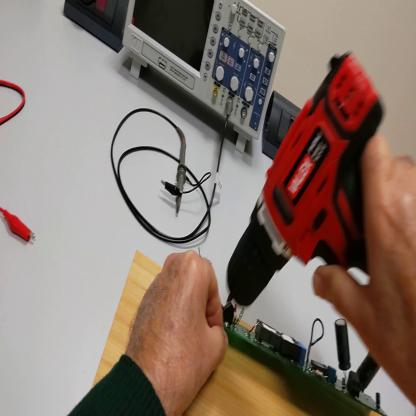electric screwdriver: (224, 57, 379, 313)
hand: (314, 132, 416, 396), (126, 250, 230, 416)
high voltage board: (225, 304, 388, 416)
oscilloscope: (125, 2, 288, 152)
oscilloscope probe tip: (176, 136, 190, 212)
socket: (64, 2, 129, 54)
working area: (94, 251, 376, 416)
